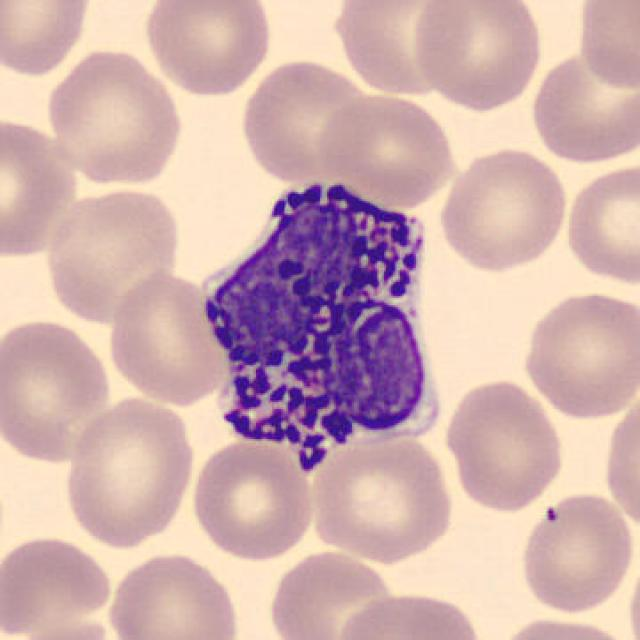Basophil: (190, 162, 450, 488)
RBC: (61, 393, 199, 550), (306, 428, 458, 566), (42, 44, 186, 189), (41, 182, 185, 326), (236, 55, 377, 187), (103, 264, 231, 408), (441, 374, 567, 515), (436, 143, 570, 275), (0, 314, 116, 465), (314, 90, 460, 208), (186, 438, 316, 562), (518, 288, 638, 422), (409, 0, 546, 113), (516, 488, 636, 616), (331, 0, 478, 99), (140, 0, 278, 99), (526, 48, 638, 166), (103, 548, 244, 640), (0, 530, 117, 638), (266, 546, 400, 640), (0, 113, 78, 259), (560, 160, 638, 288), (331, 587, 487, 640), (0, 0, 96, 79), (599, 388, 640, 541), (572, 0, 638, 95), (490, 613, 638, 640), (7, 617, 126, 640), (626, 536, 640, 640)
